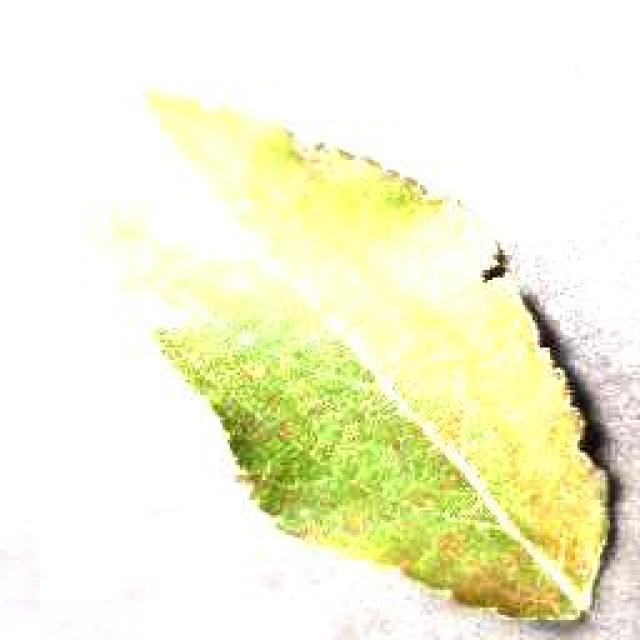apple healthy: (107, 85, 615, 625)
